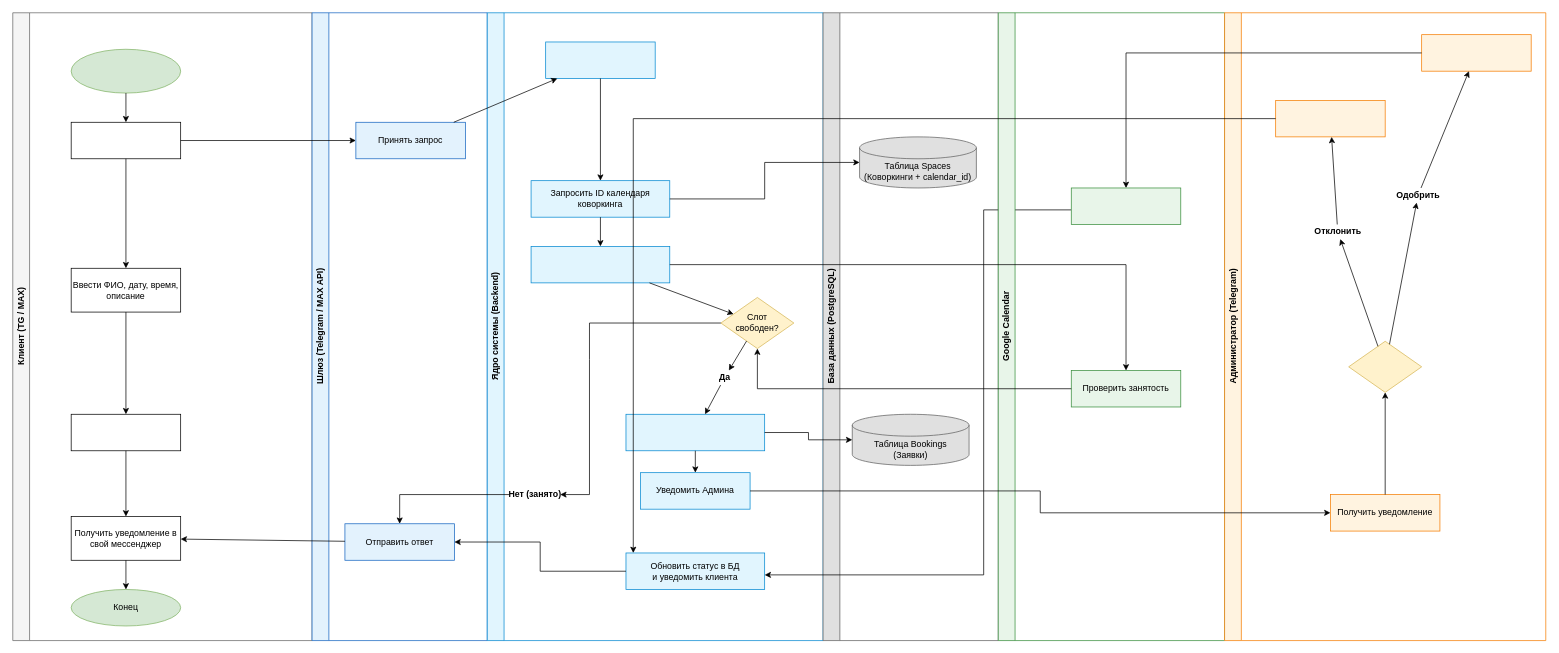
Some shapes in this 1559 by 653 pixel diagram are drawn without their labels. Here are the shapes that lost their labels. From the top down, the centre of each, then its label:
the point at 125,71: Начало: Потребность в брони
the point at 600,59: Обработать запрос
the point at 1476,52: Нажать "Одобрить"
the point at 1330,118: Ввести причину отказа
the point at 125,140: Открыть бота в TG или MAX
the point at 1126,205: Создать событие
the point at 600,264: Проверить слот в Google Calendar
the point at 1385,366: Решение?
the point at 125,432: Ожидать решения
the point at 695,432: Сохранить заявку в БД (status: pending)
